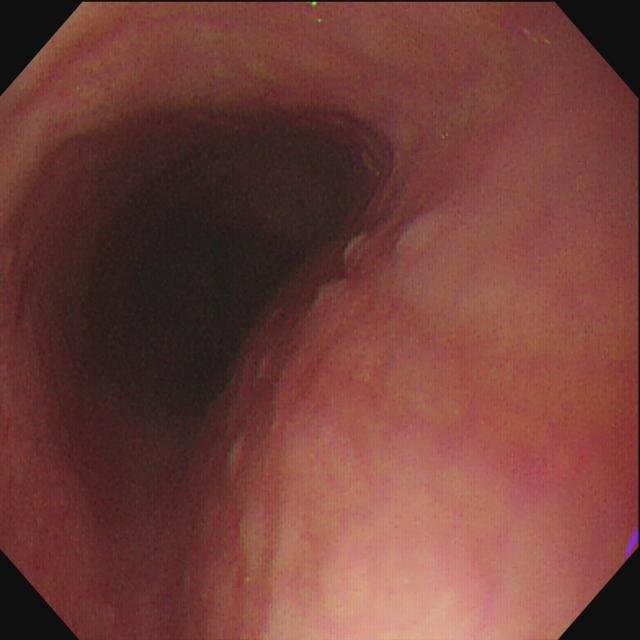E: (91, 211, 231, 415)
